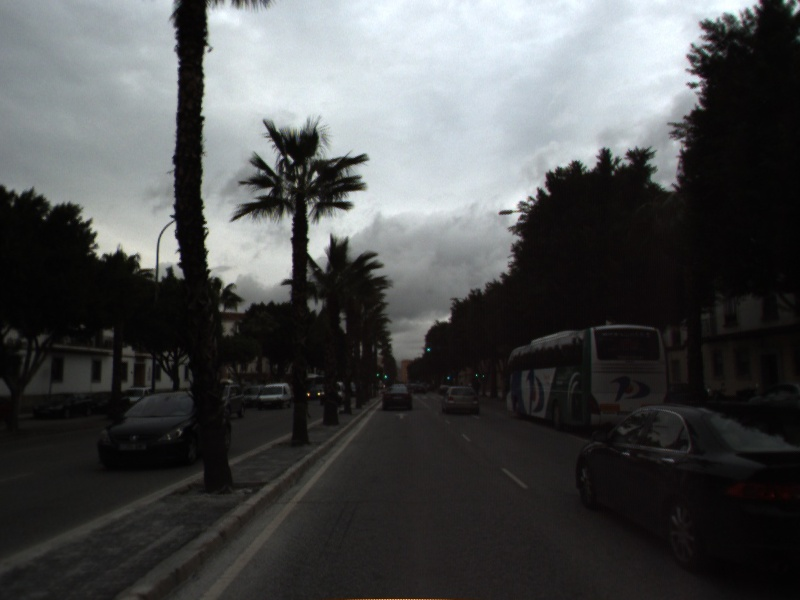STRAIGHT: (394, 409, 411, 421)
